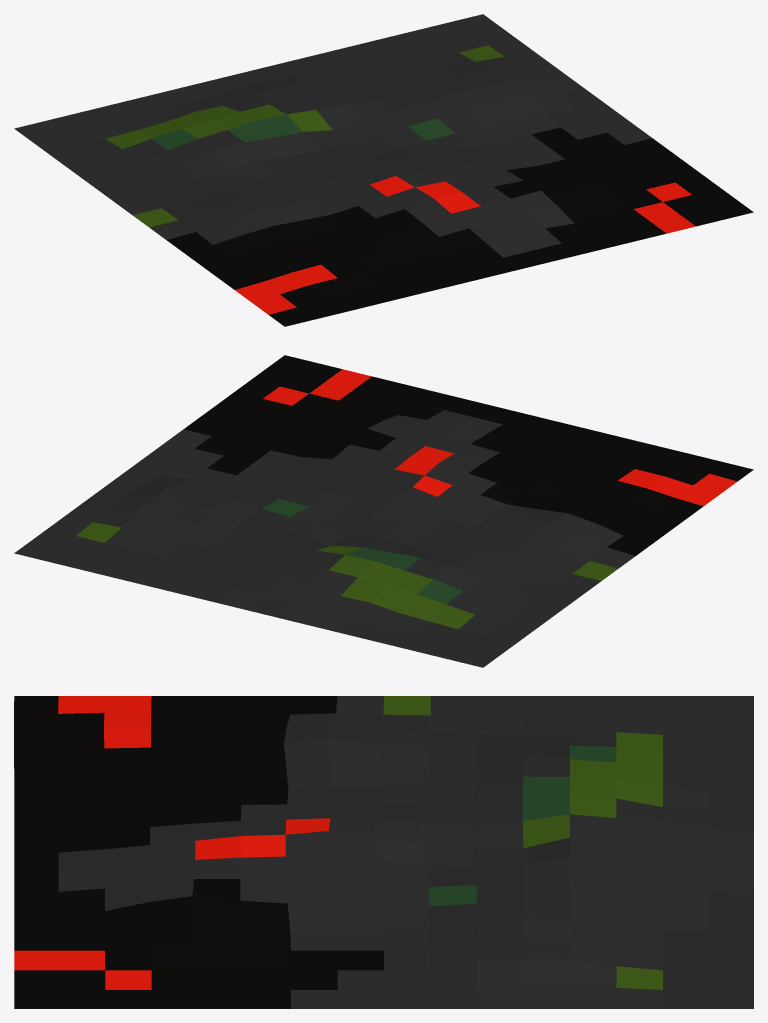
File: HotMountain3.FBX
3 views of the same model, one above another, from view 1: azimuth 30°, elevation 25°; view 2: azimuth 150°, elevation 25°; view 3: azimuth 270°, elevation 25° (orthographic). The views are drawn at different scales.
Parts seen in each view (by area): view 1: Terrain.002; view 2: Terrain.002; view 3: Terrain.002.
Part boxes in pixels (box(x1,y1,x2,y2)): Terrain.002: box(14, 14, 753, 326); Terrain.002: box(14, 355, 753, 667); Terrain.002: box(14, 696, 753, 1008).
Bounding box in the file's own units: 800 × 800 × 23.83.
